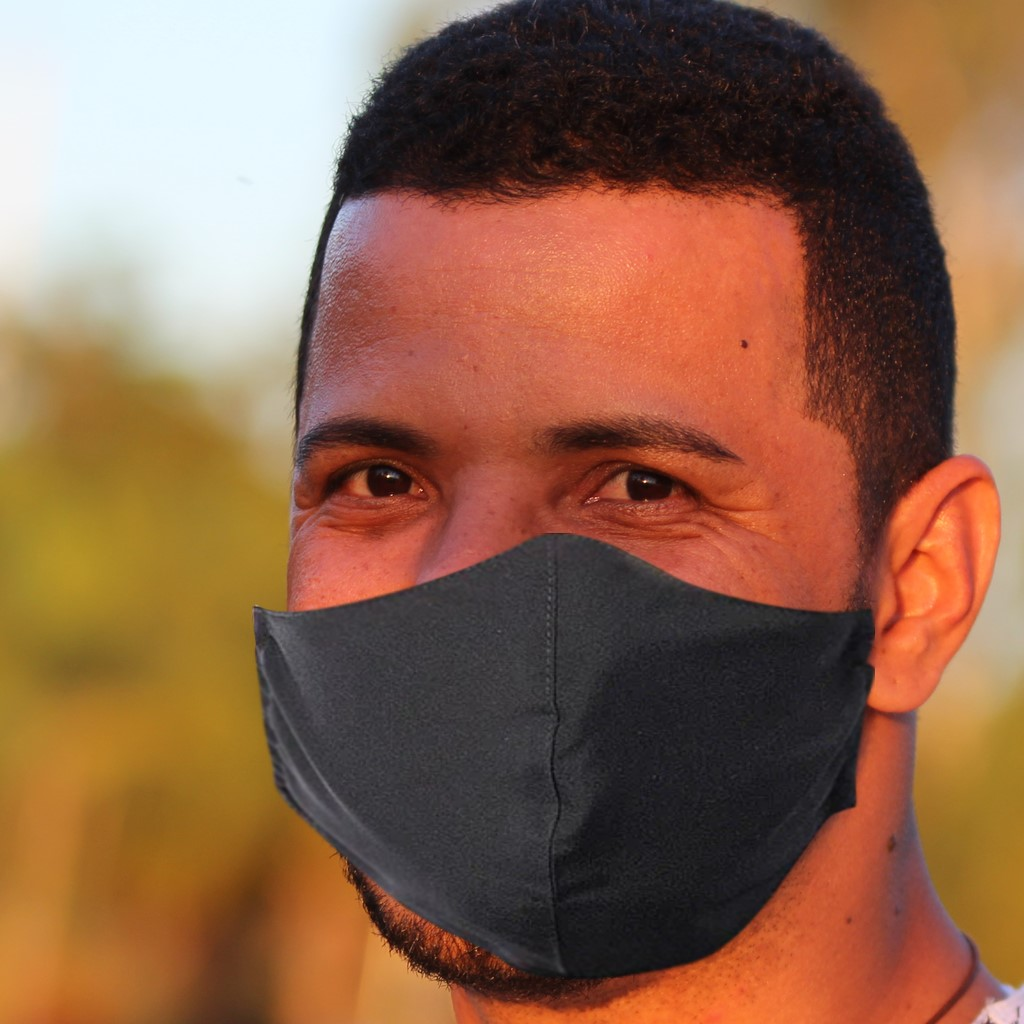con_mascara: (265, 118, 912, 999)
